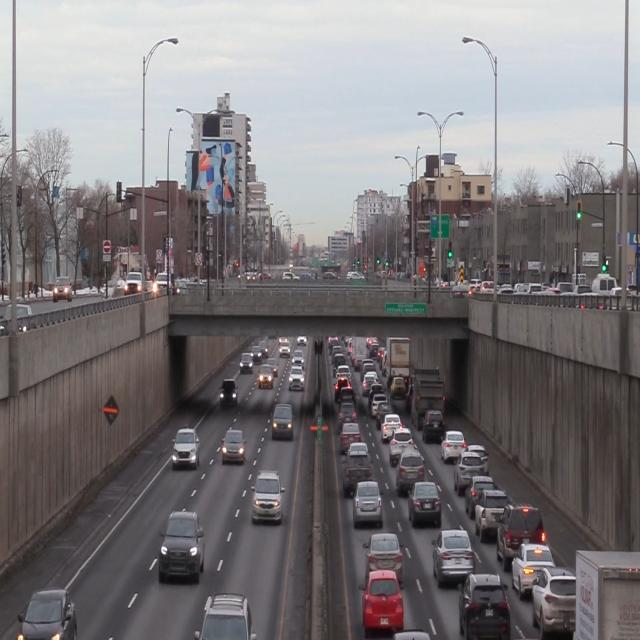Car: (457, 572, 510, 638), (159, 511, 205, 582), (535, 566, 579, 638), (358, 574, 404, 632), (432, 530, 476, 584), (363, 533, 405, 587), (501, 505, 544, 557), (512, 542, 555, 592), (253, 470, 286, 526), (409, 481, 444, 527), (476, 490, 506, 539), (355, 481, 384, 525), (395, 450, 425, 492), (173, 428, 200, 469), (222, 429, 247, 465), (273, 403, 296, 441), (220, 378, 240, 408)
